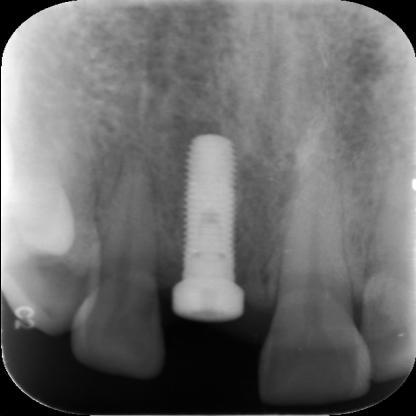Bego: (147, 121, 273, 330)
